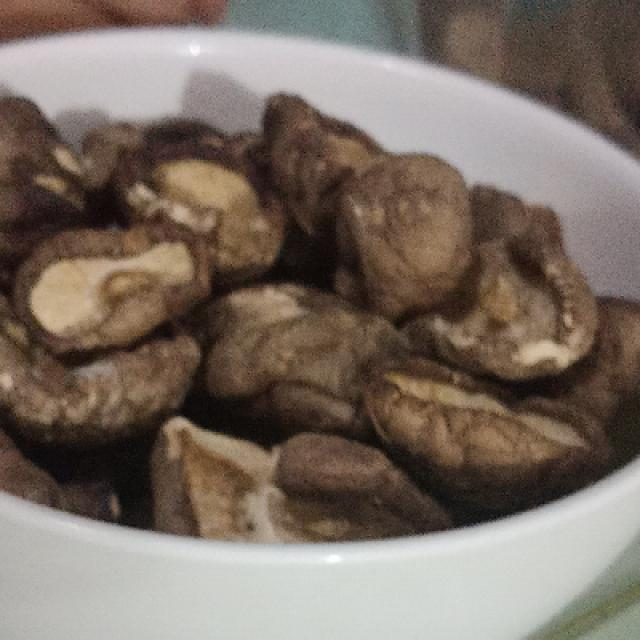Lentinus edodes: (370, 350, 609, 498), (11, 223, 210, 358), (421, 230, 595, 383), (335, 150, 473, 319)
